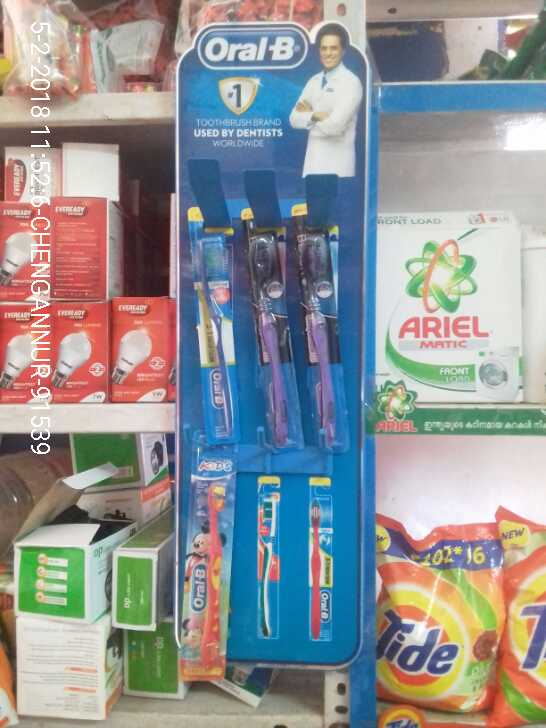home: (372, 206, 526, 414), (362, 509, 494, 714)
pharmacy: (290, 205, 348, 447), (249, 211, 303, 439), (184, 206, 238, 431), (179, 440, 228, 677)
